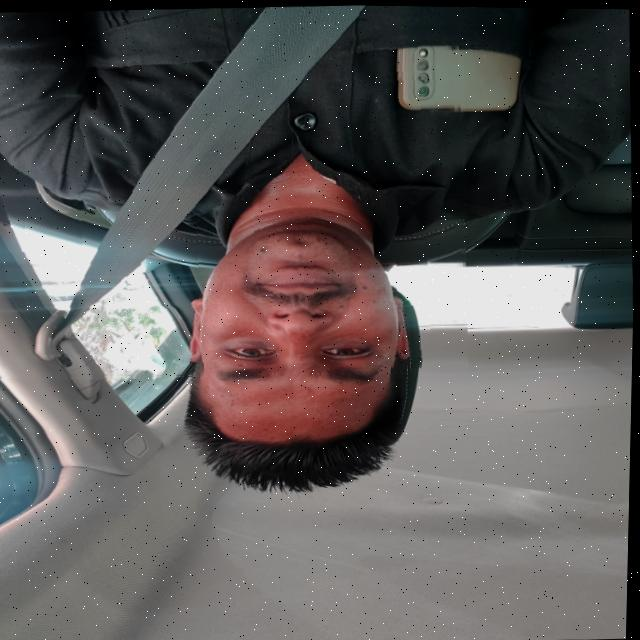seatbelt: (0, 0, 475, 386)
